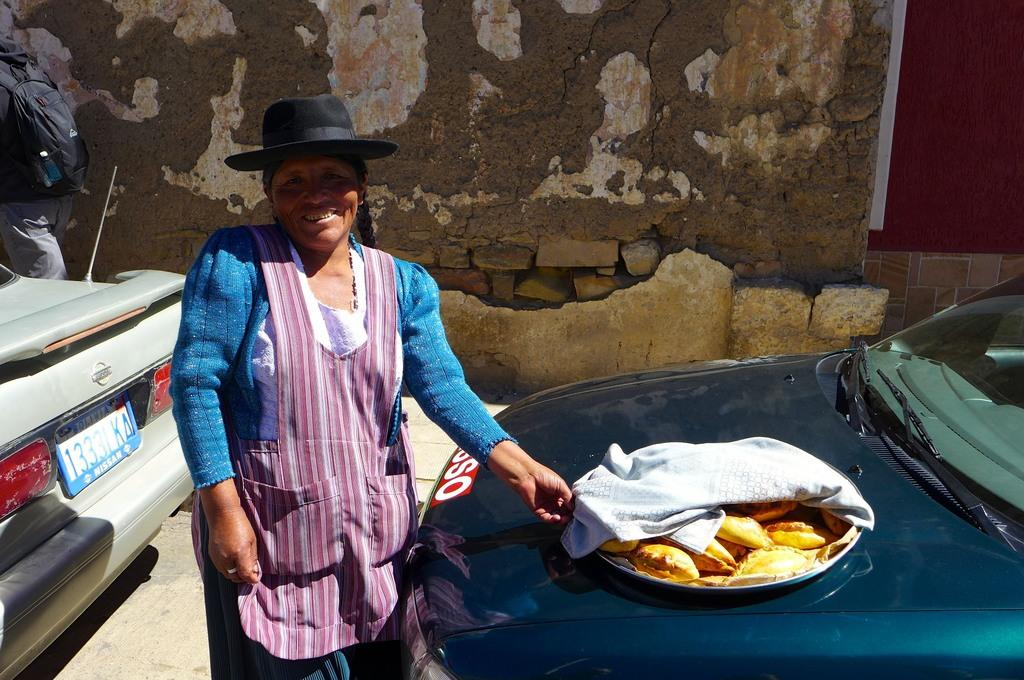Hat: (224, 90, 396, 171)
